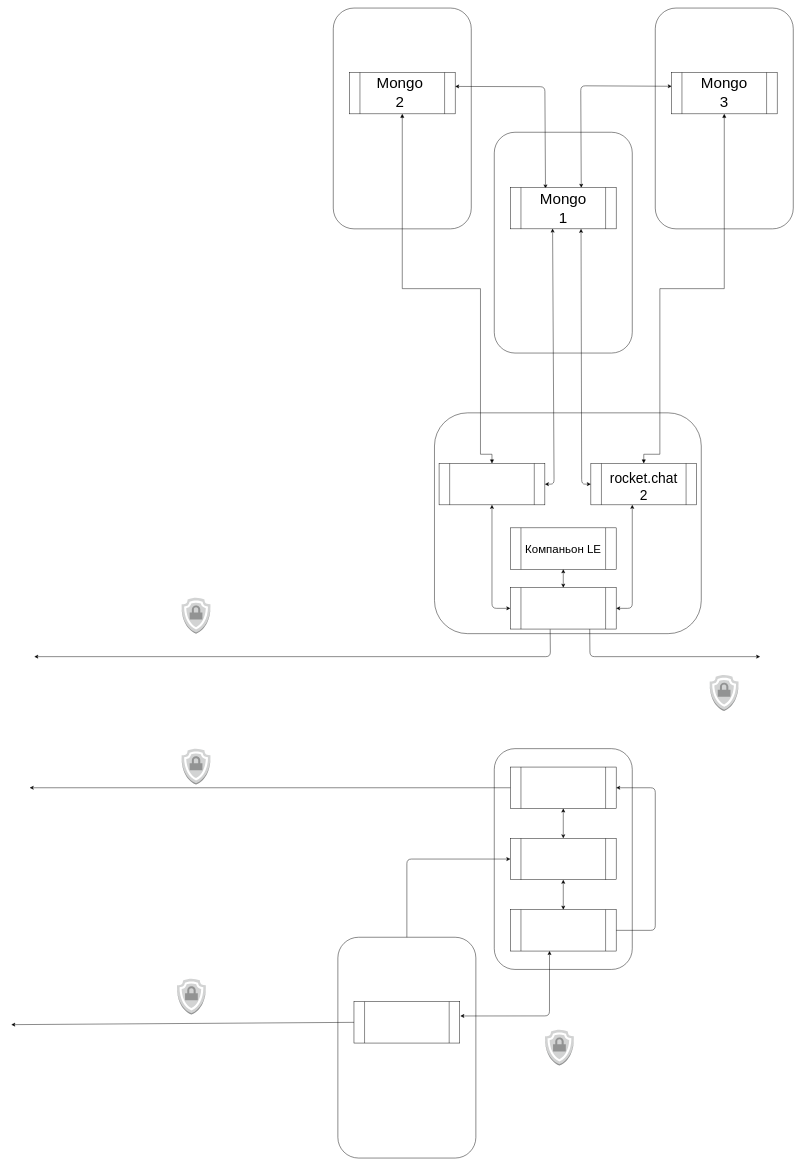
This 801x1166 diagram has some shape labels left out. The centre of each missing label's shape, as x and y in pixels:
NGINX: the point at 563,608
rocket.chat 1: the point at 492,484
